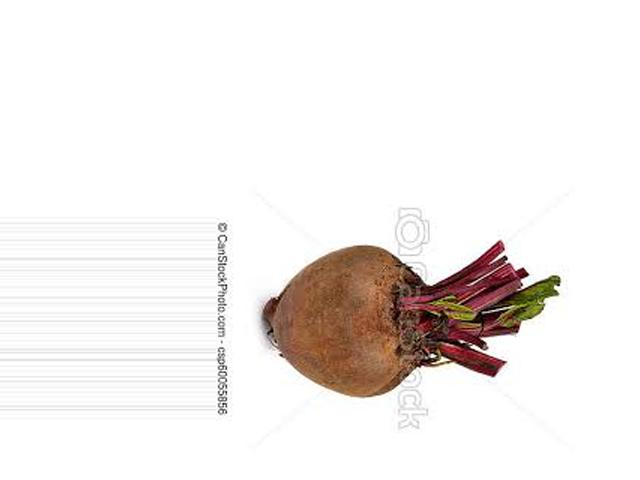beet: (263, 241, 558, 398)
